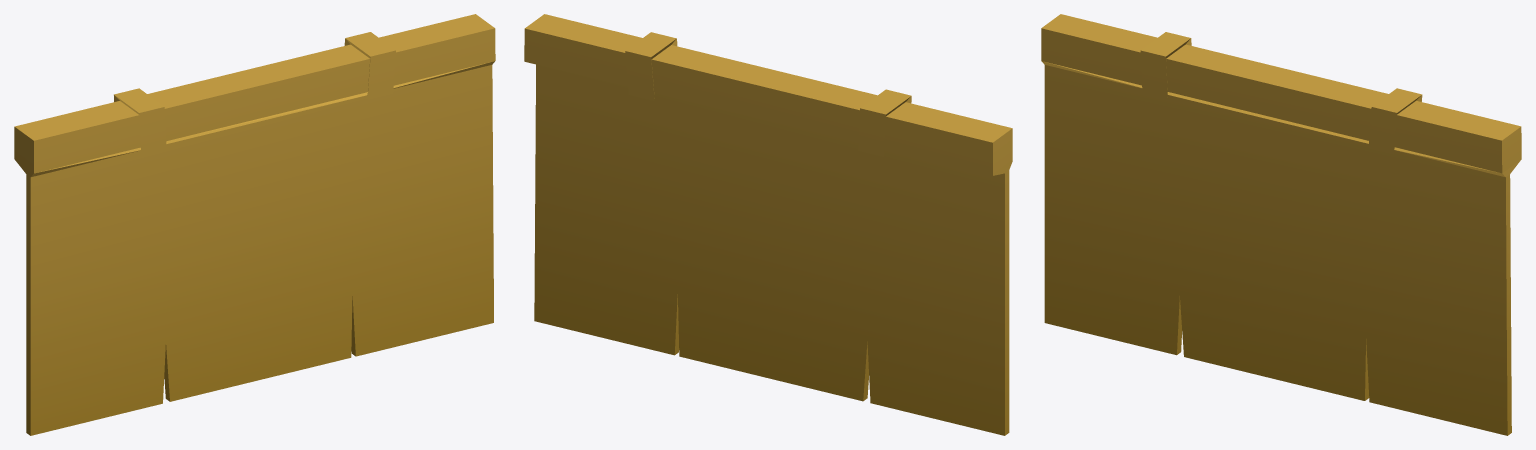
Rendered from Noren_Blank_Yellow.fbx.
The picture shows the model from 3 angles, left to right: view 1: azimuth 30°, elevation 25°; view 2: azimuth 150°, elevation 25°; view 3: azimuth 330°, elevation 25°; orthographic projection.
Visible parts, largest first — view 1: Noren_Blank_Yellow; view 2: Noren_Blank_Yellow; view 3: Noren_Blank_Yellow.
Part boxes in pixels (x1,y1,x2,y2): Noren_Blank_Yellow: [14, 14, 495, 435]; Noren_Blank_Yellow: [524, 14, 1012, 435]; Noren_Blank_Yellow: [1041, 14, 1521, 435].
Bounding box in the file's own units: 1 × 0.6267 × 0.0953.
1 material, 1 textured.
